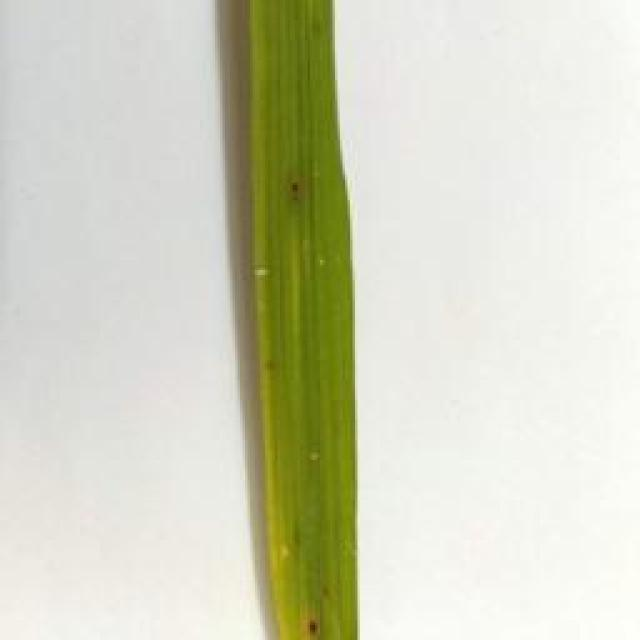Brown_Spot: (266, 165, 326, 217), (256, 344, 288, 394), (294, 612, 330, 640)
